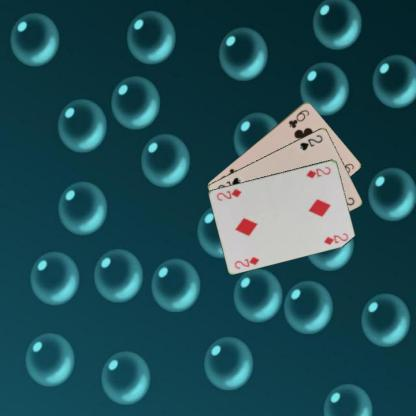2d: (232, 254, 261, 270), (304, 164, 332, 179)
2s: (297, 132, 324, 151)
6c: (286, 107, 310, 129)
